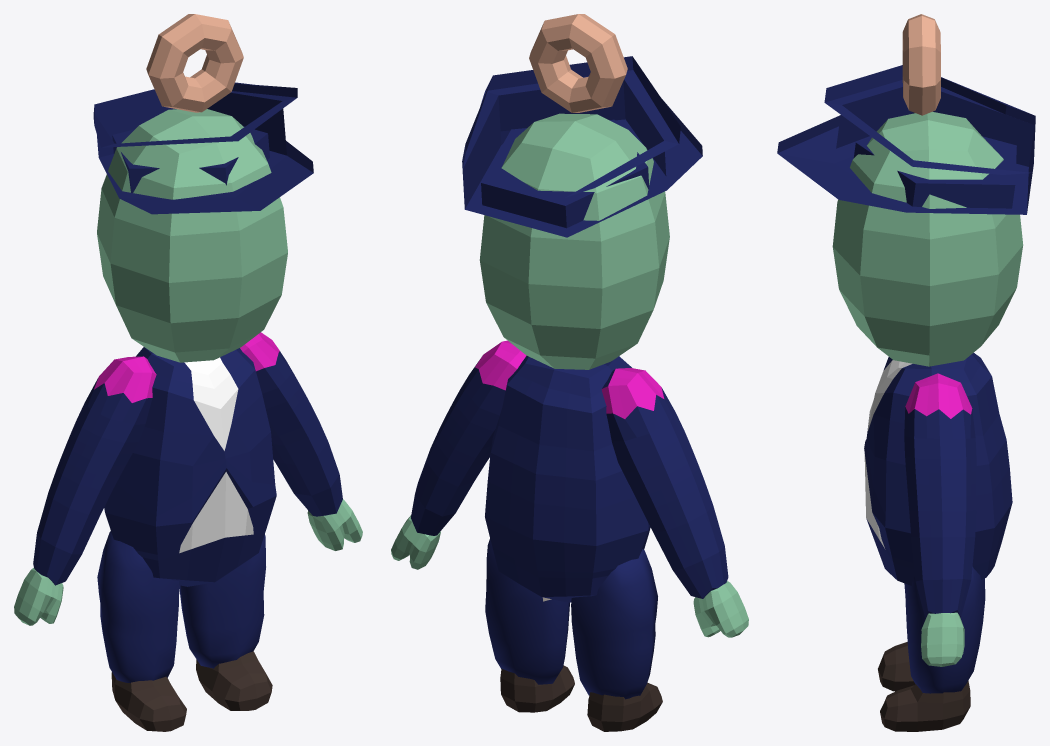
Rendered from Police.fbx.
3 renders of one model, left to right at view 1: azimuth 30°, elevation 25°; view 2: azimuth 150°, elevation 25°; view 3: azimuth 270°, elevation 25°, orthographic.
Parts seen in each view (by area): view 1: Police; view 2: Police; view 3: Police.
Part boxes in pixels (x1,y1,x2,y2): Police: (14, 14, 362, 731); Police: (391, 14, 748, 731); Police: (777, 14, 1035, 731).
Size of the model in its own units: 180 by 349 by 118.
